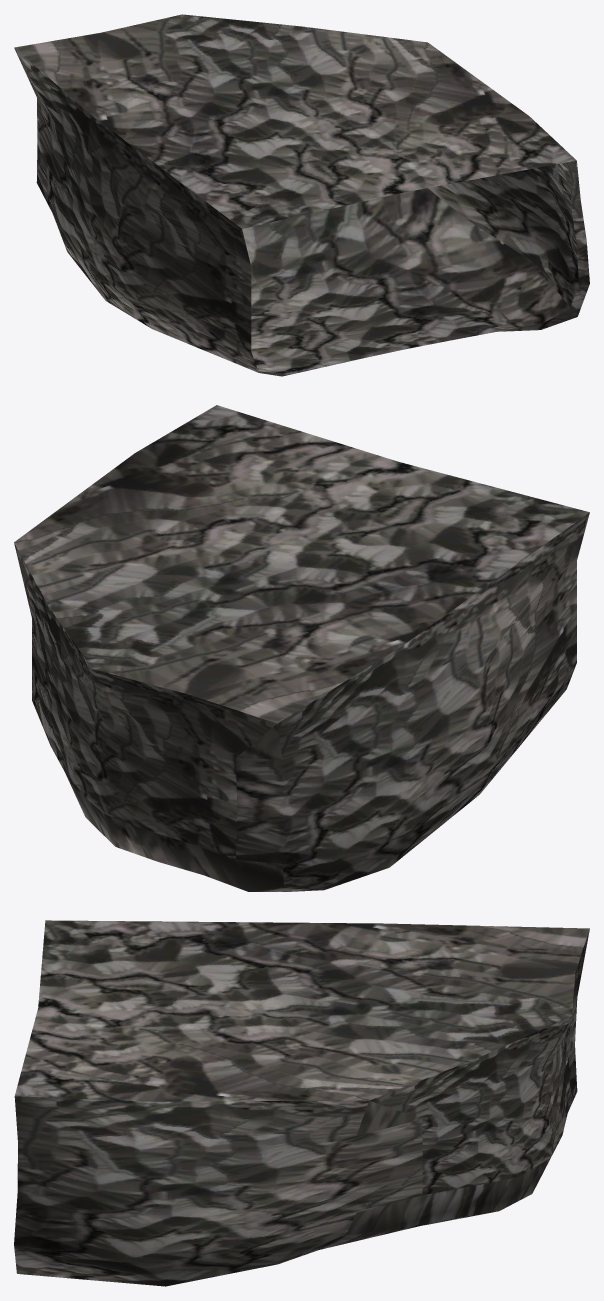
Rendered from INST_SM_LEDGEB.fbx.
The picture shows the model from 3 angles, top to bottom: view 1: azimuth 30°, elevation 25°; view 2: azimuth 150°, elevation 25°; view 3: azimuth 270°, elevation 25°; orthographic projection. The views are drawn at different scales.
Parts seen in each view (by area): view 1: INST_SM_LEDGEB; view 2: INST_SM_LEDGEB; view 3: INST_SM_LEDGEB.
Boxes of the visible parts, x1,y1,x2,y2 form: INST_SM_LEDGEB: (14, 14, 589, 376); INST_SM_LEDGEB: (14, 405, 589, 891); INST_SM_LEDGEB: (14, 920, 589, 1286).
Size of the model in its own units: 30743 by 15246 by 36004.
1 material, 1 textured.
